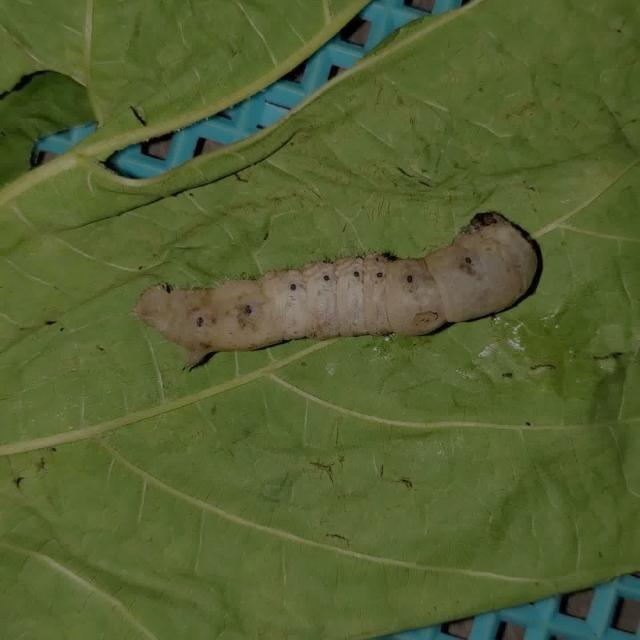Grasserie: (124, 204, 548, 374)
